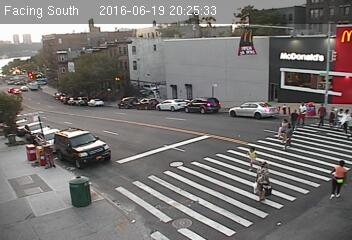neg: (80, 30, 105, 63), (105, 73, 128, 104), (101, 31, 123, 60), (123, 22, 144, 51), (246, 106, 267, 133), (60, 46, 81, 73), (25, 134, 45, 159), (15, 123, 32, 146), (3, 115, 20, 137), (43, 143, 58, 164), (274, 97, 288, 116), (145, 26, 157, 42)
pos: (247, 159, 281, 204), (324, 157, 351, 202), (240, 143, 263, 173), (292, 100, 313, 128), (312, 102, 332, 128)
